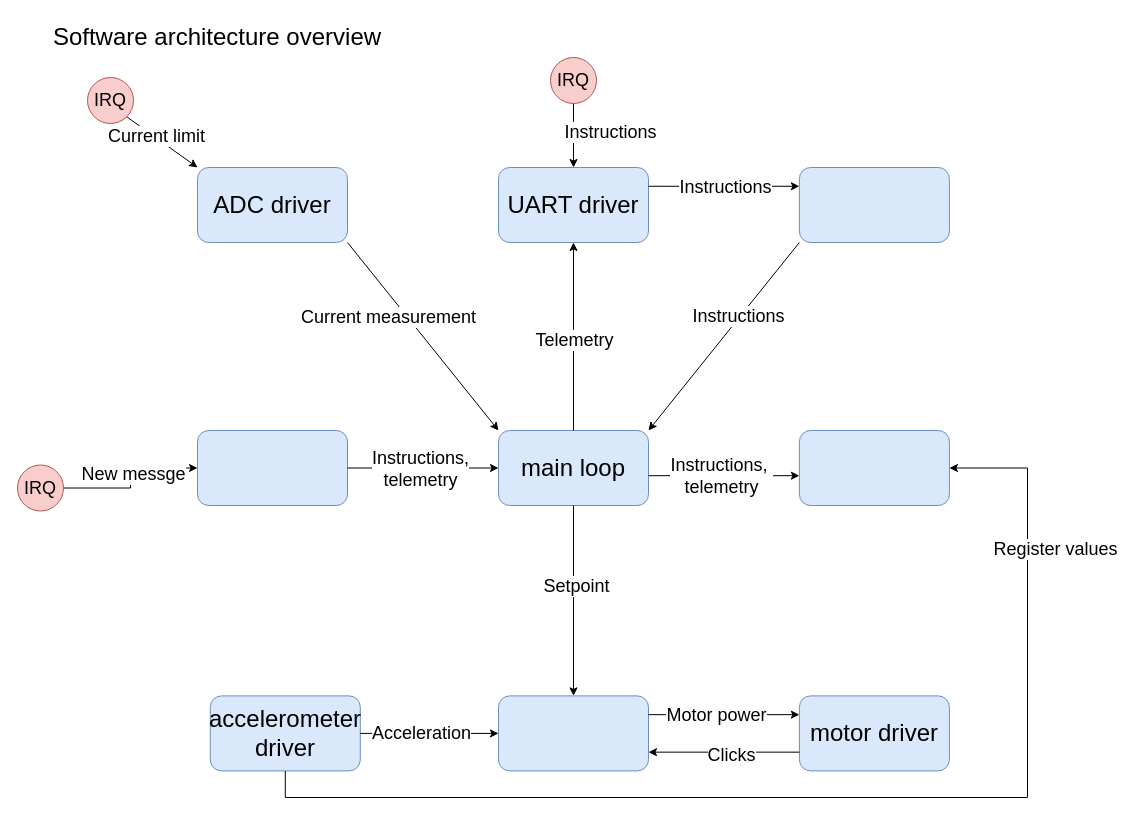
Some shapes in this 1135 by 823 pixel diagram are drawn without their labels. Here are the shapes that lost their labels. From the top down, the box of each, then its label:
(798, 166, 949, 242): UART parser
(196, 430, 348, 506): CAN receive handler
(798, 430, 949, 506): CAN transmit handler
(498, 695, 648, 771): joint control
